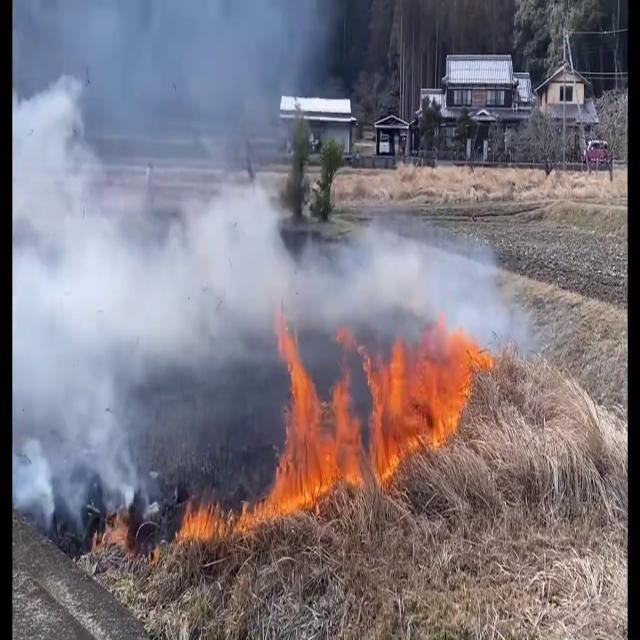Fire: (264, 310, 500, 496), (173, 493, 264, 552)
Smoke: (14, 0, 314, 447), (21, 176, 523, 391)
